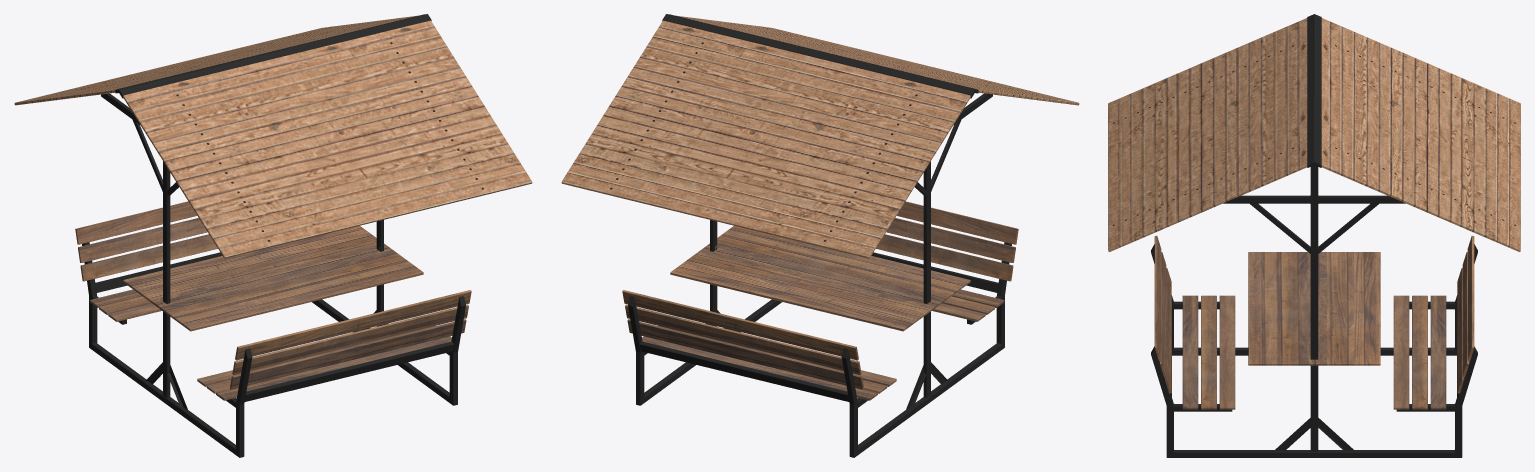
The model's file is gazebo_1.glb.
The picture shows the model from 3 angles, left to right: view 1: azimuth 30°, elevation 25°; view 2: azimuth 150°, elevation 25°; view 3: azimuth 270°, elevation 25°; orthographic projection. The views are drawn at different scales.
Parts seen in each view (by area): view 1: Luca3D_Gazebo_1_0; view 2: Luca3D_Gazebo_1_0; view 3: Luca3D_Gazebo_1_0.
Boxes of the visible parts, <box> form: Luca3D_Gazebo_1_0: <box>14,14,532,457</box>; Luca3D_Gazebo_1_0: <box>561,14,1079,457</box>; Luca3D_Gazebo_1_0: <box>1108,14,1520,457</box>.
Size of the model in its own units: 2.65 by 2.66 by 3.12.
Materials: 1 (1 with a texture image).
